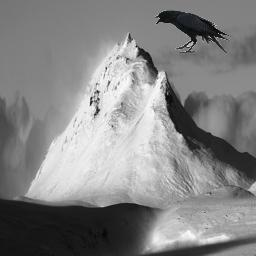Crow: (153, 10, 232, 54)
